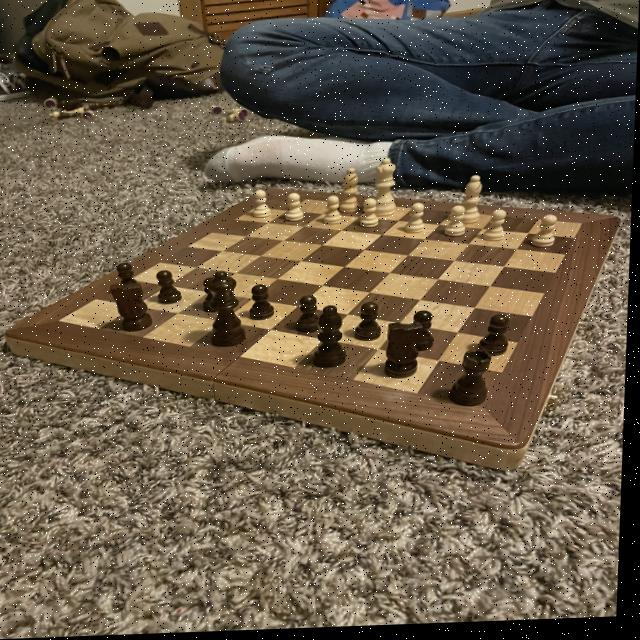bishop: (314, 304, 354, 374)
black-king: (383, 321, 432, 387), (109, 281, 162, 337)
black-knight: (478, 314, 516, 363), (355, 300, 390, 346), (410, 311, 442, 357), (154, 267, 187, 309), (249, 283, 281, 324), (298, 295, 326, 338), (203, 276, 232, 316), (116, 260, 148, 296)
black-pawn: (206, 270, 254, 350)
black-queen: (448, 352, 503, 412)
black-rook: (459, 176, 488, 232), (336, 168, 367, 220)
white-knight: (532, 217, 563, 255), (481, 211, 509, 248), (443, 208, 473, 242), (403, 205, 431, 239), (282, 193, 308, 227), (251, 189, 277, 222), (361, 199, 384, 234), (323, 197, 347, 230)
white-pawn: (369, 159, 402, 223)
